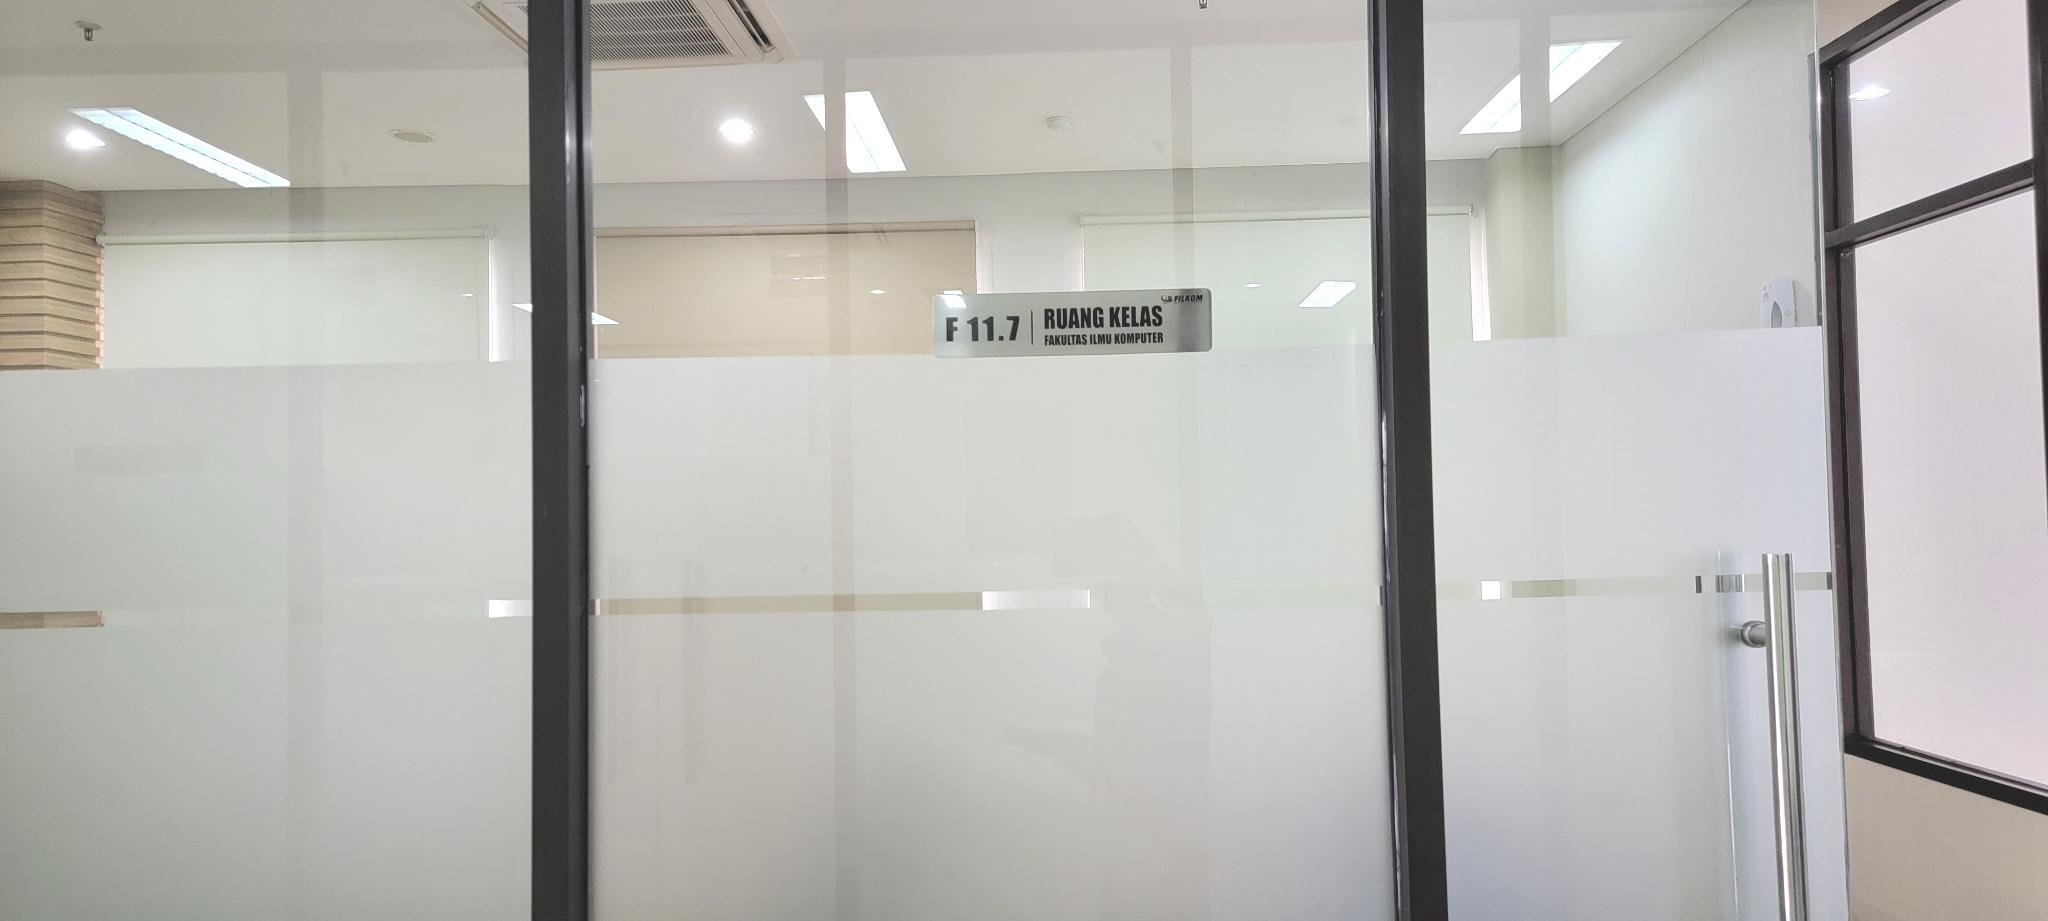plate: (931, 287, 1212, 359)
